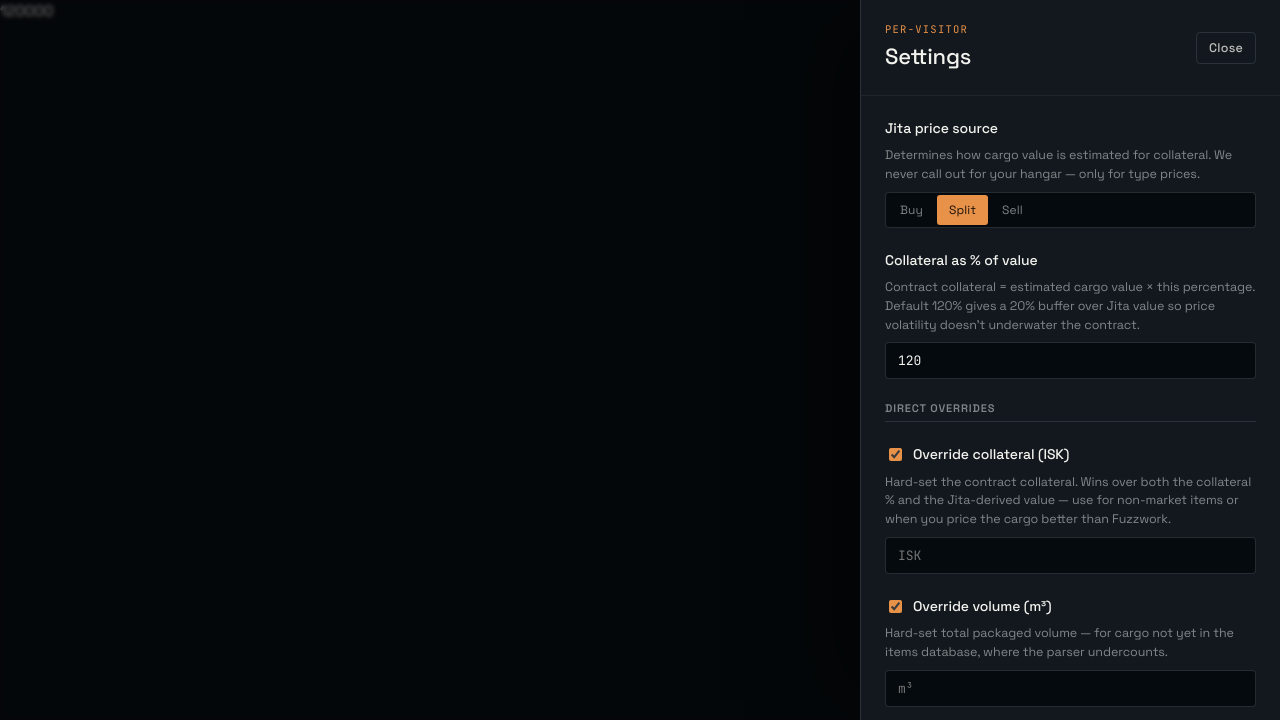
Scenario: SettingsDrawer — override shorthand inputs (#37) › displays the committed value comma-grouped on blur (readability tweak)
Type "13724763" into the field with placeholder "ISK".
click(1070, 555); type("13724763")  # box x1=885 y1=537 x2=1256 y2=574
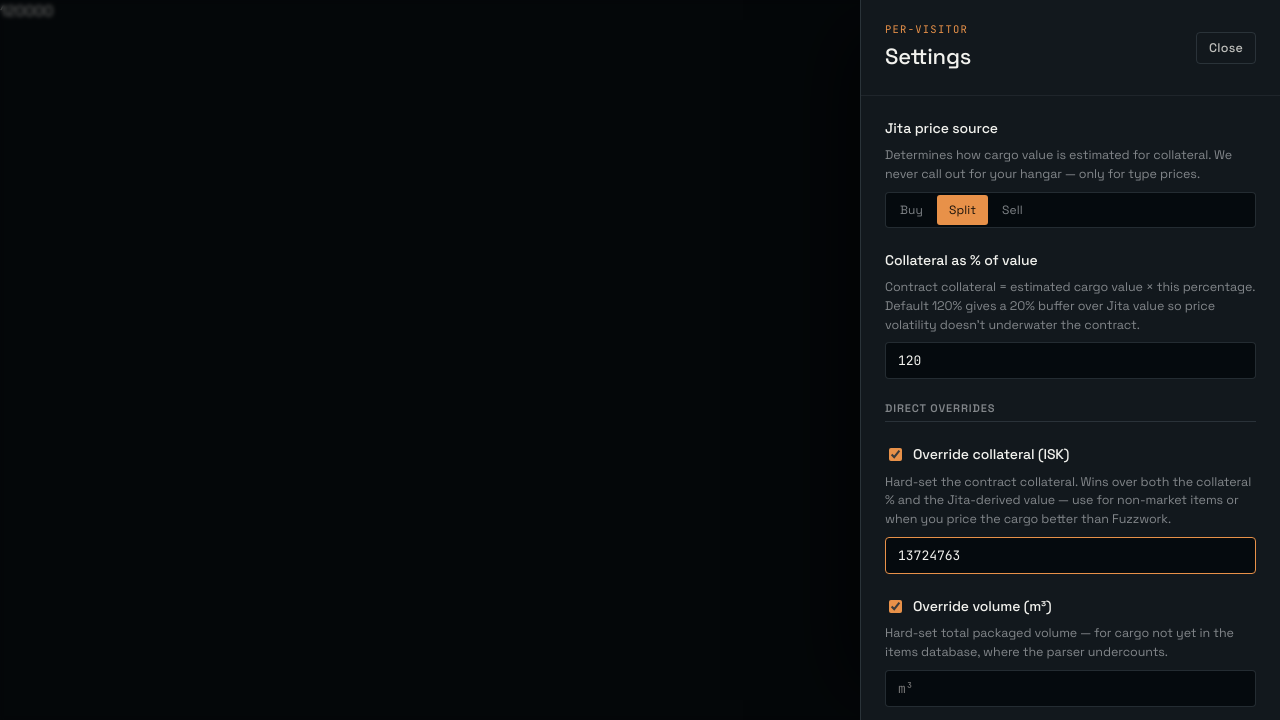
Press Tab
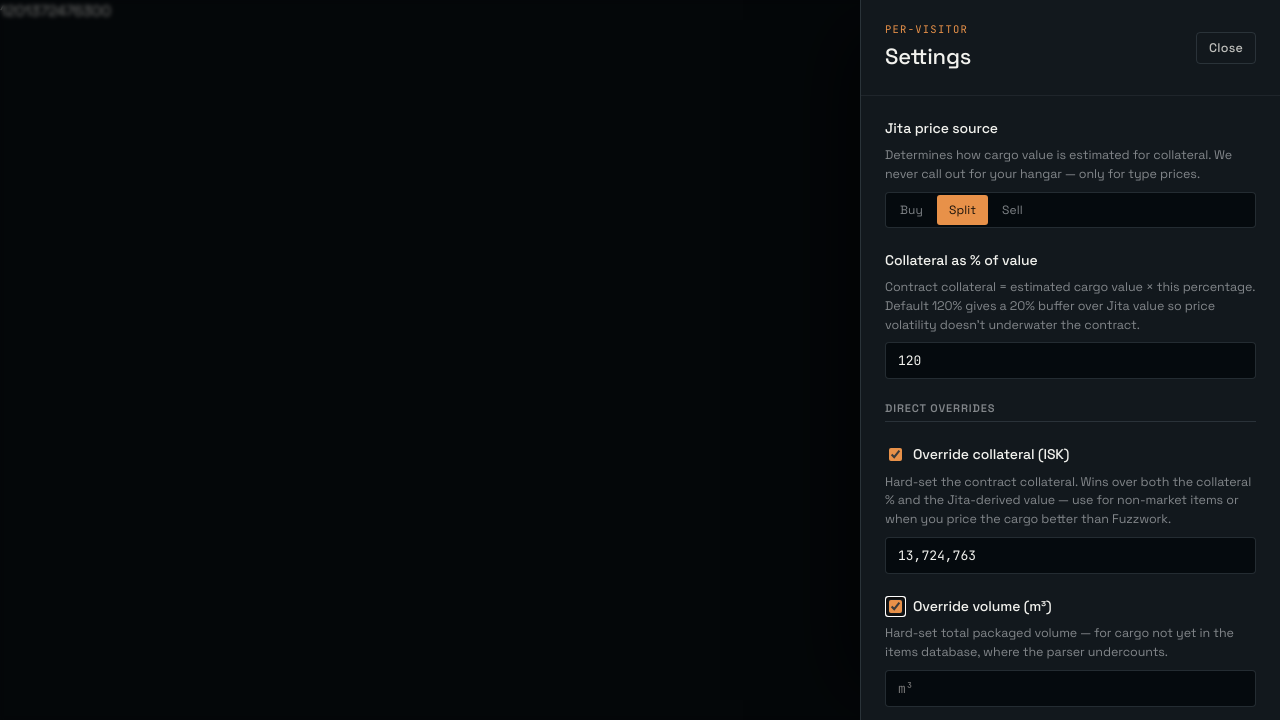
Result: the field with placeholder "ISK" holds "13,724,763" at x1=885 y1=537 x2=1256 y2=574
Result: the text with test id "coll-value" reads "13724763" at x1=25 y1=1 x2=92 y2=20
